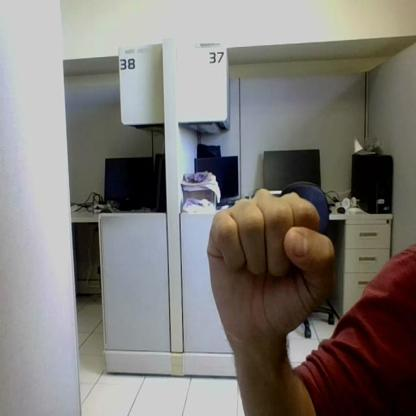S: (210, 188, 334, 327)
